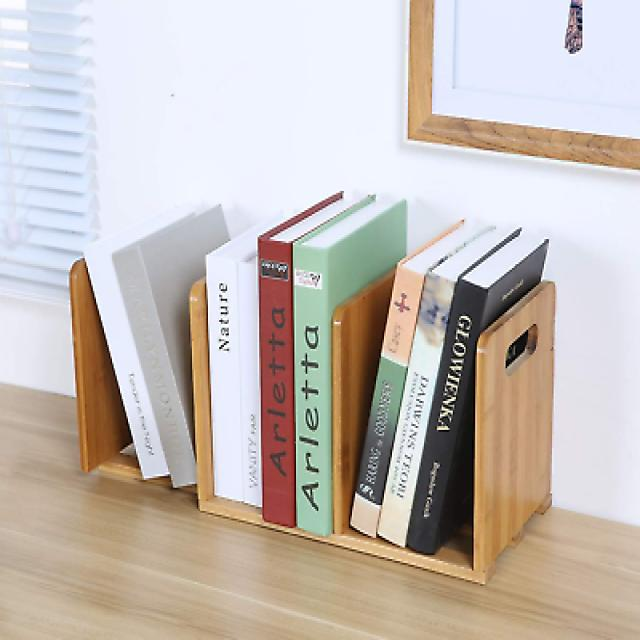book: (407, 280, 488, 555), (377, 272, 455, 549), (113, 246, 197, 489), (83, 246, 170, 479), (350, 267, 423, 537), (258, 237, 294, 528), (295, 243, 328, 537), (207, 254, 241, 501), (237, 263, 263, 506)
